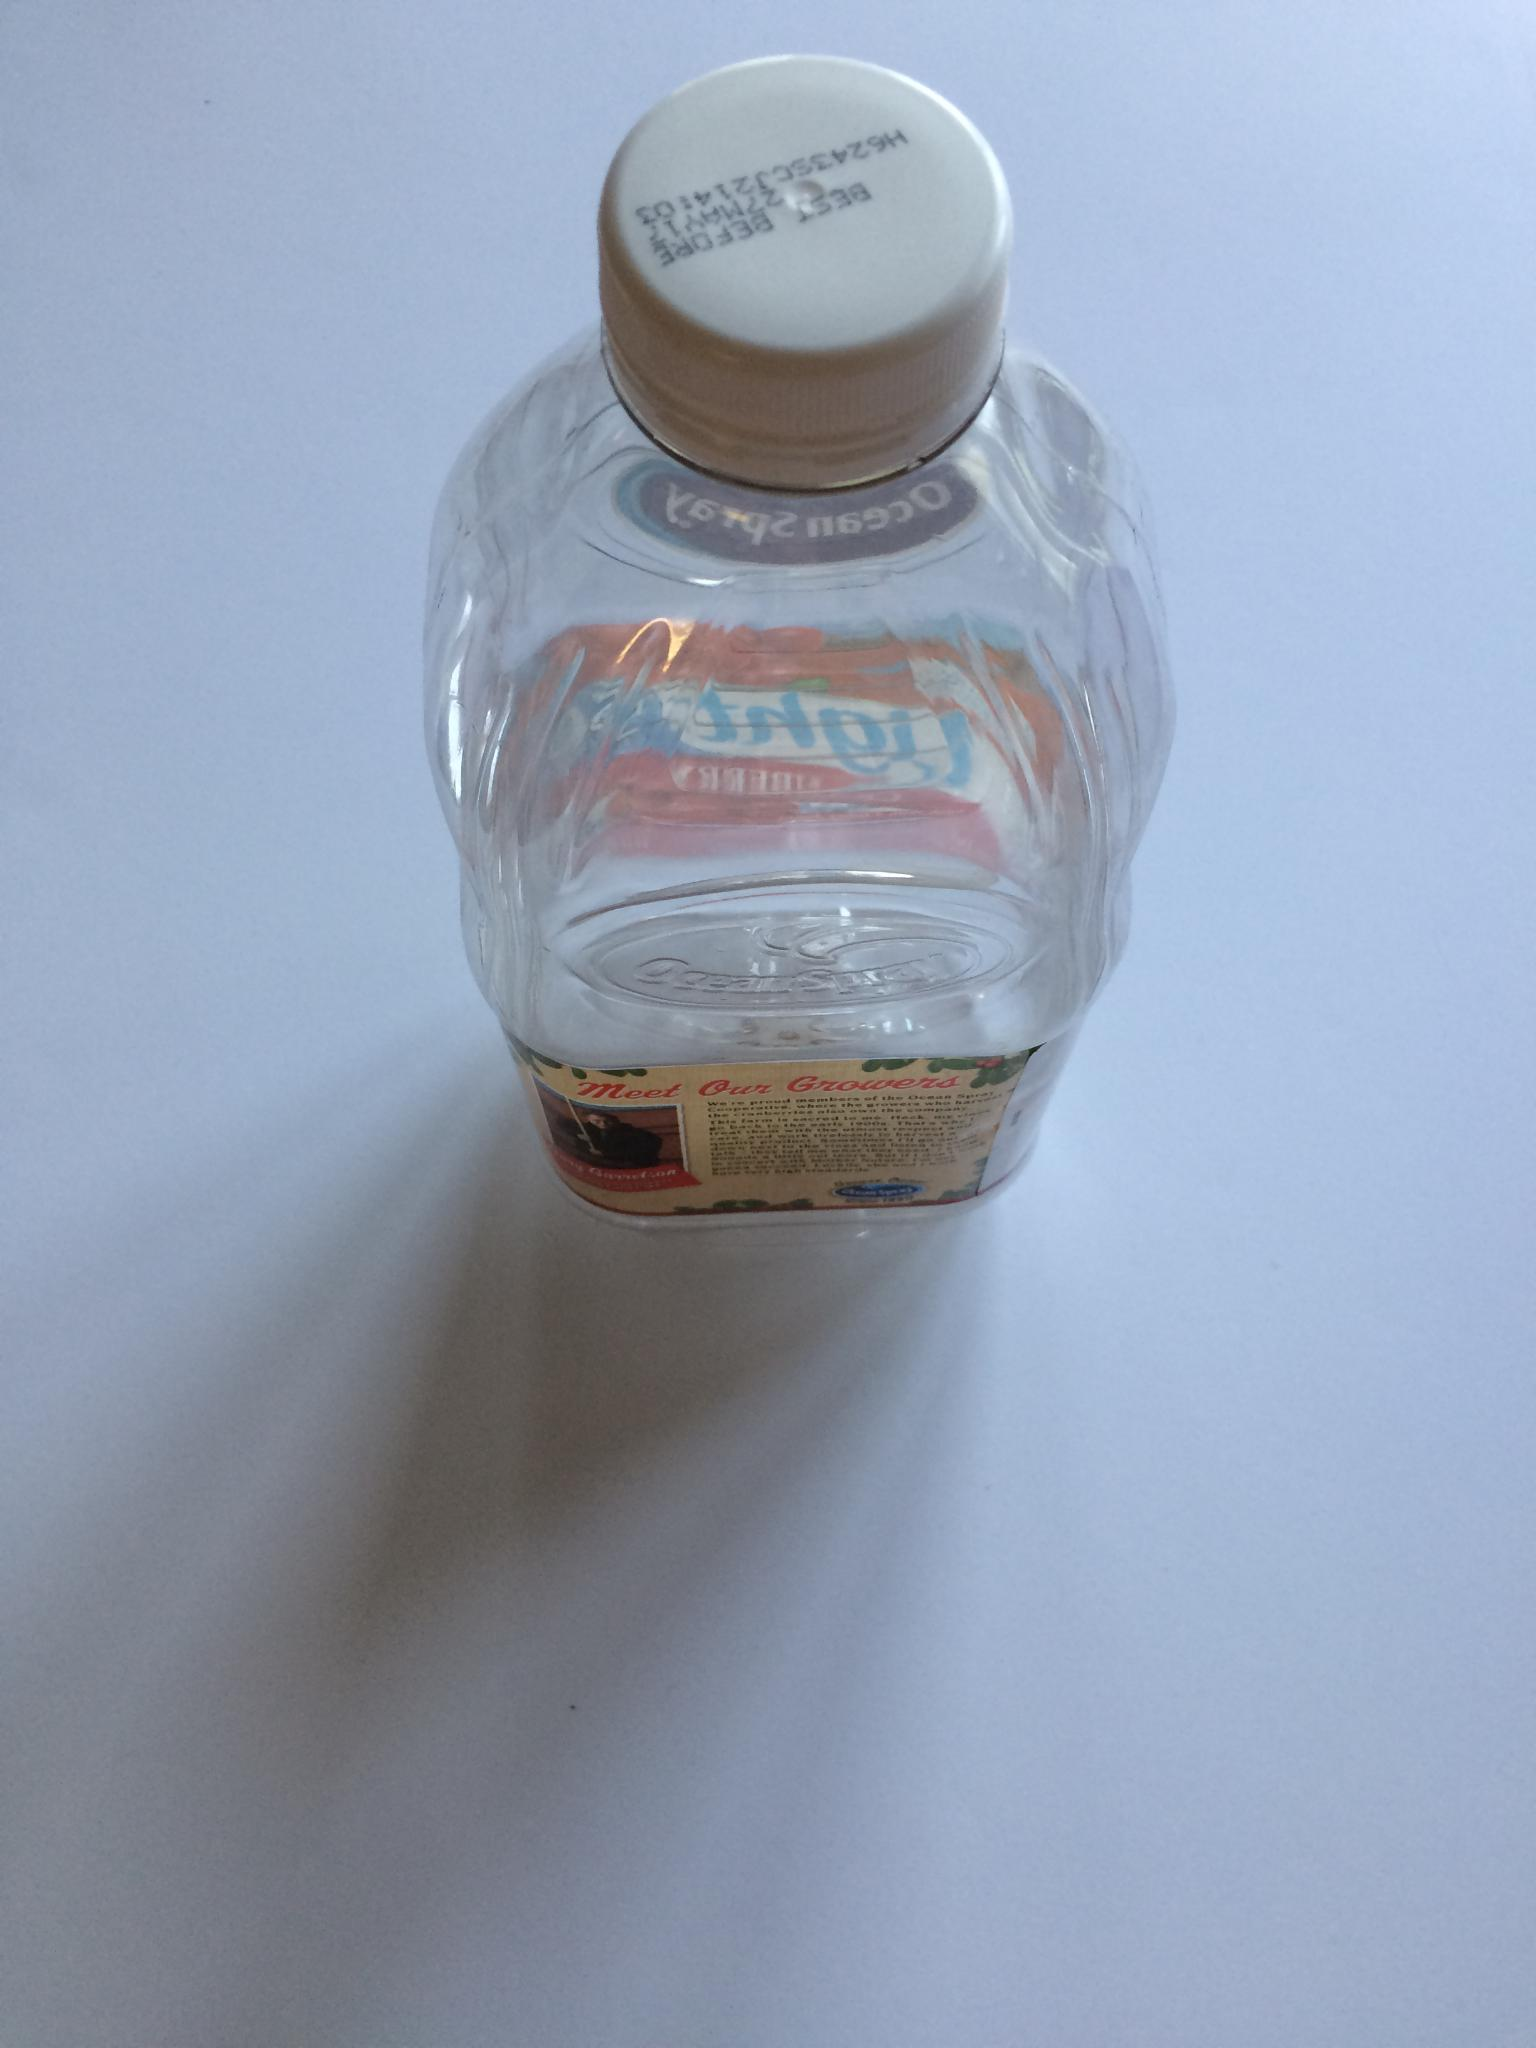Plastic: (396, 48, 1194, 1242)
